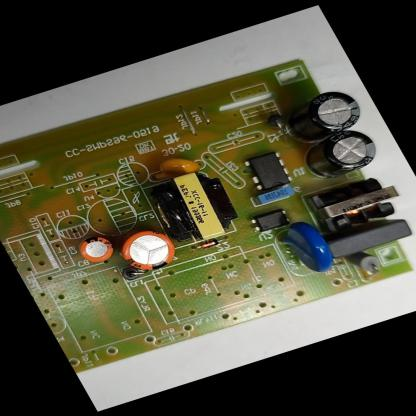Cap1: (110, 223, 184, 277)
Cap2: (72, 231, 120, 266)
Cap3: (292, 125, 386, 186)
Cap4: (277, 84, 370, 143)
MOSFET: (240, 150, 295, 192)
Mov: (271, 218, 340, 282)
Resistor: (341, 248, 386, 278)
Transformer: (145, 164, 248, 248), (305, 171, 411, 237)
